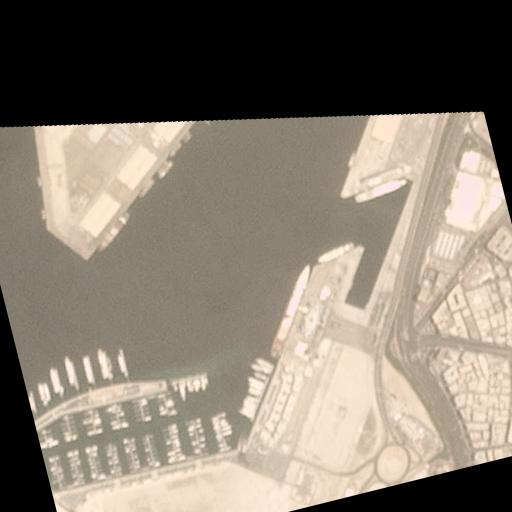ship: (249, 260, 326, 356), (88, 212, 136, 252), (349, 174, 408, 204), (312, 239, 357, 265)
